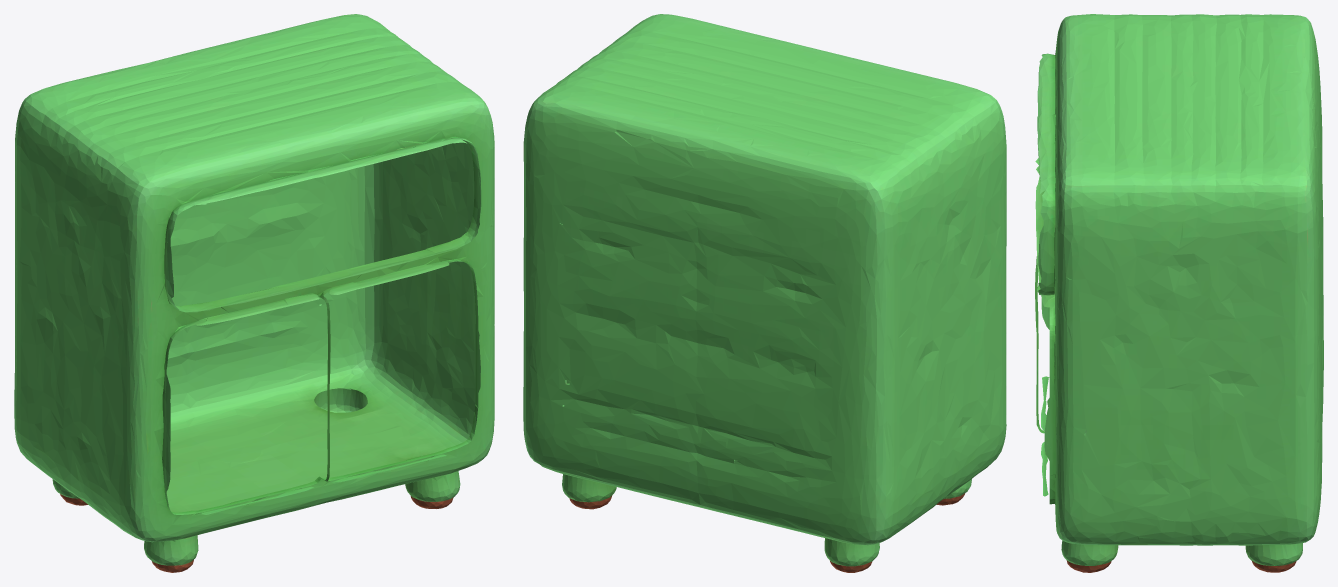
The model's file is body.glb.
3 renders of one model, left to right at view 1: azimuth 30°, elevation 25°; view 2: azimuth 150°, elevation 25°; view 3: azimuth 270°, elevation 25°, orthographic.
Parts seen in each view (by area): view 1: source_surface_0; view 2: source_surface_0; view 3: source_surface_0.
Boxes of the visible parts, x1,y1,x2,y2 form: source_surface_0: [14, 14, 494, 572]; source_surface_0: [523, 14, 1006, 572]; source_surface_0: [1035, 14, 1323, 572].
Bounding box in the file's own units: 0.4914 × 0.52 × 0.3295.
Materials: 1 (1 with a texture image).
